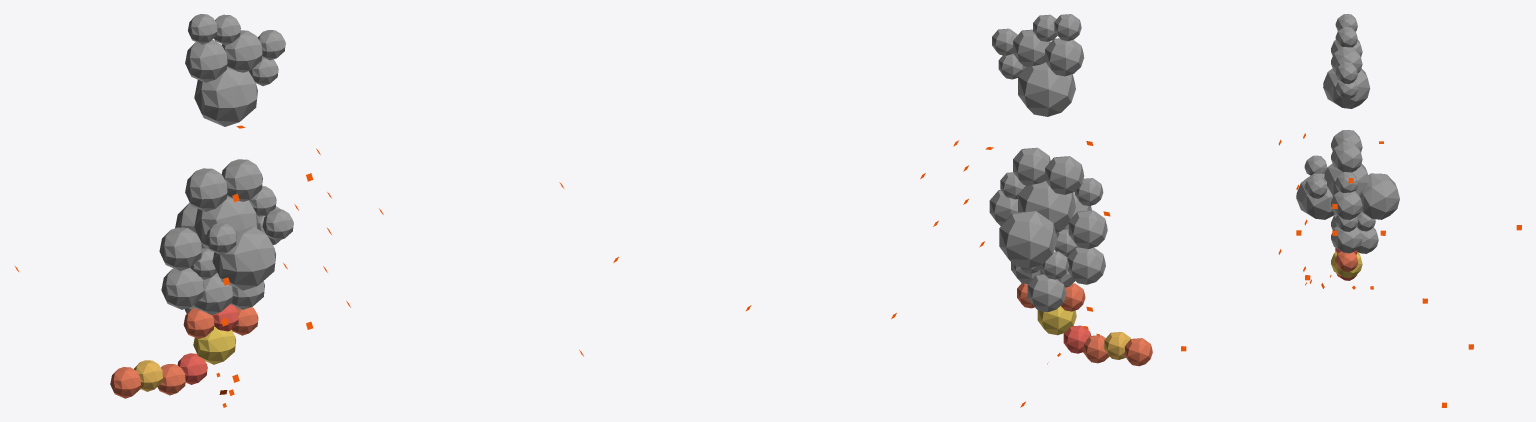
The model's file is 10 Fire.FBX.
The picture shows the model from 3 angles, left to right: view 1: azimuth 30°, elevation 25°; view 2: azimuth 150°, elevation 25°; view 3: azimuth 270°, elevation 25°; orthographic projection. The views are drawn at different scales.
Visible parts, largest first — view 1: GeoSphere028; view 2: GeoSphere028; view 3: GeoSphere028.
Boxes of the visible parts, box(x1,y1,x2,y2) form: GeoSphere028: box(14, 14, 583, 407); GeoSphere028: box(613, 14, 1152, 407); GeoSphere028: box(1181, 14, 1521, 407).
Bounding box in the file's own units: 3133 × 2145 × 2426.
